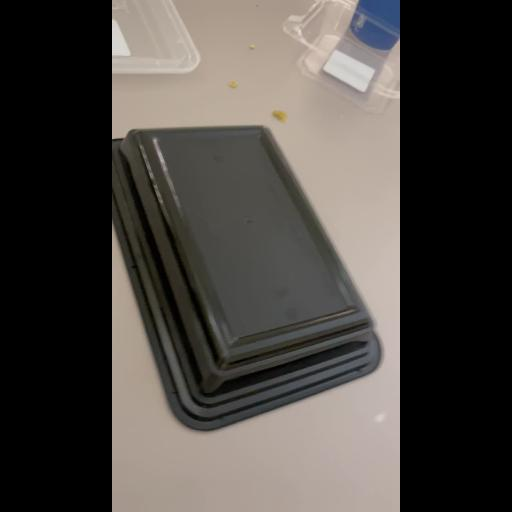rigid_plastic_container: (112, 118, 392, 448)
